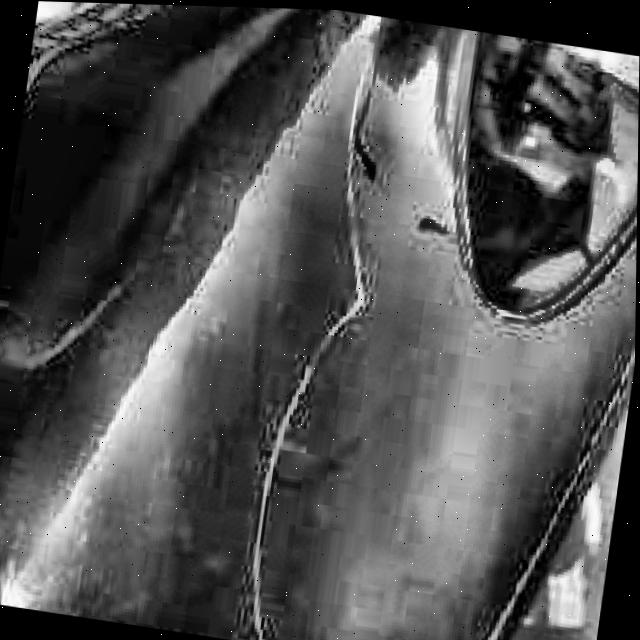door_scratch: (305, 101, 398, 380), (224, 408, 314, 640)
